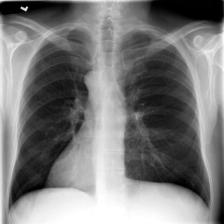normal: (7, 15, 212, 213)
